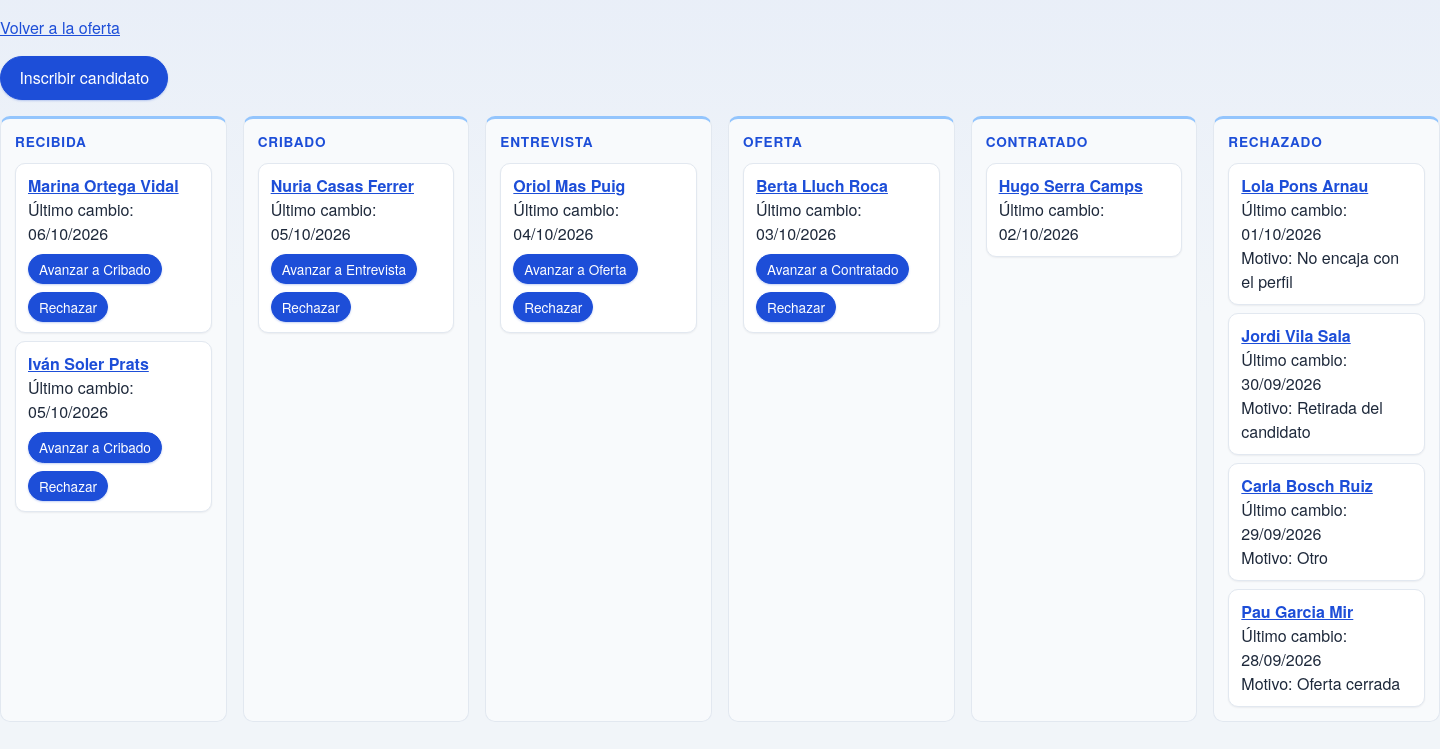
Scenario: PipelineScreen: panel y búsqueda (RF-08) › EC-41: 10 resultados, sin nota; en la tabla, en el orden de la API y sin skills
Click the button "Inscribir candidato". click: (84, 78)
box: top-left (0, 56), bottom-right (168, 100)
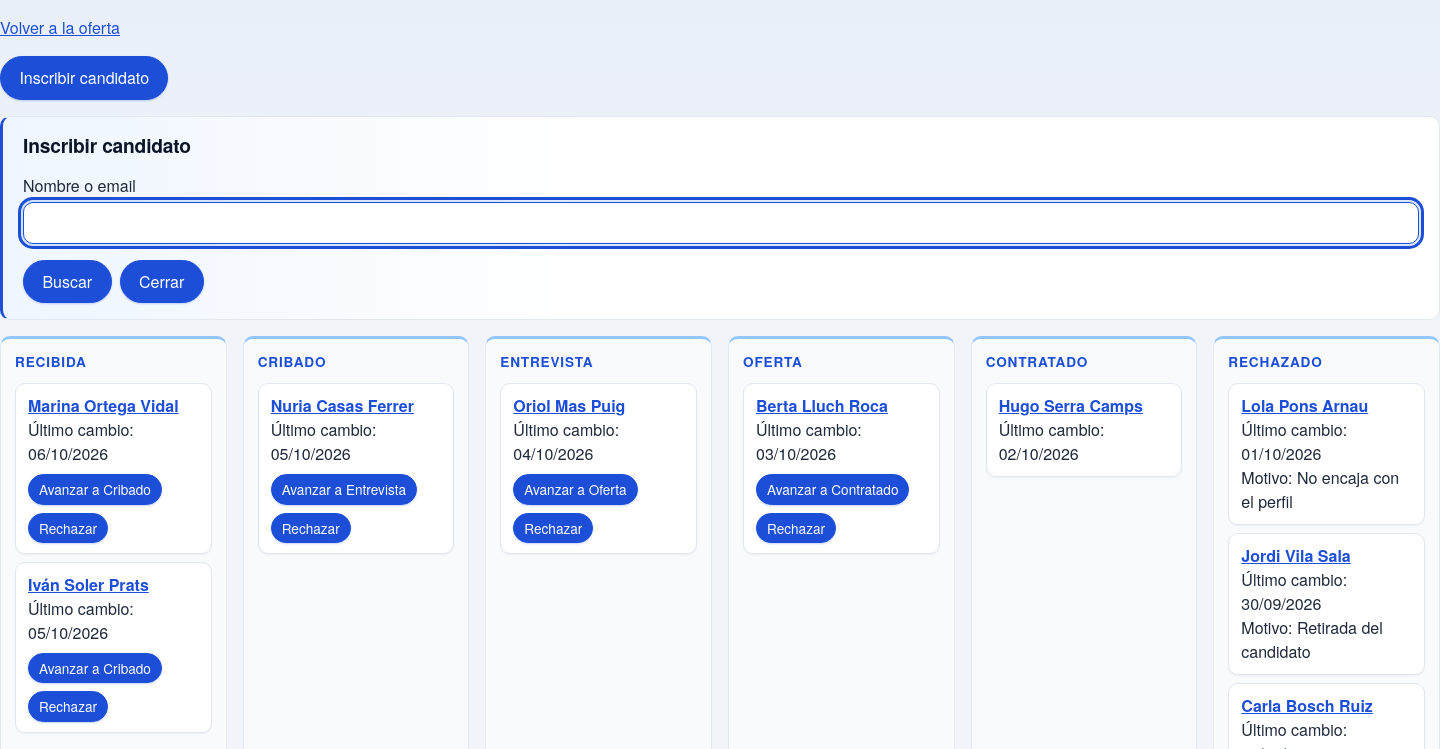
Click the button "Buscar". click: (67, 282)
box: top-left (23, 260), bottom-right (112, 304)
(page scrolled)
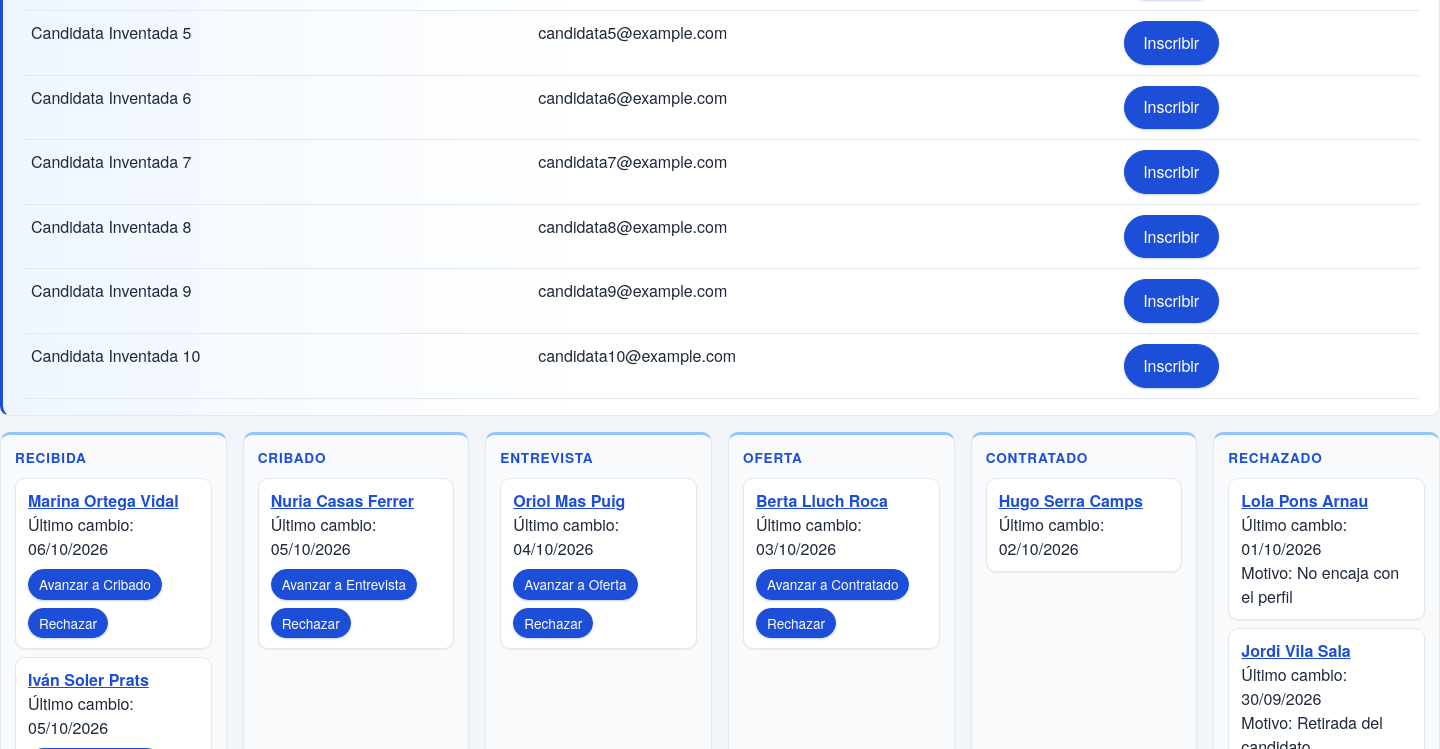
Expected: the text "candidata10@example.com" is shown, top-left (530, 334), bottom-right (1116, 398)
